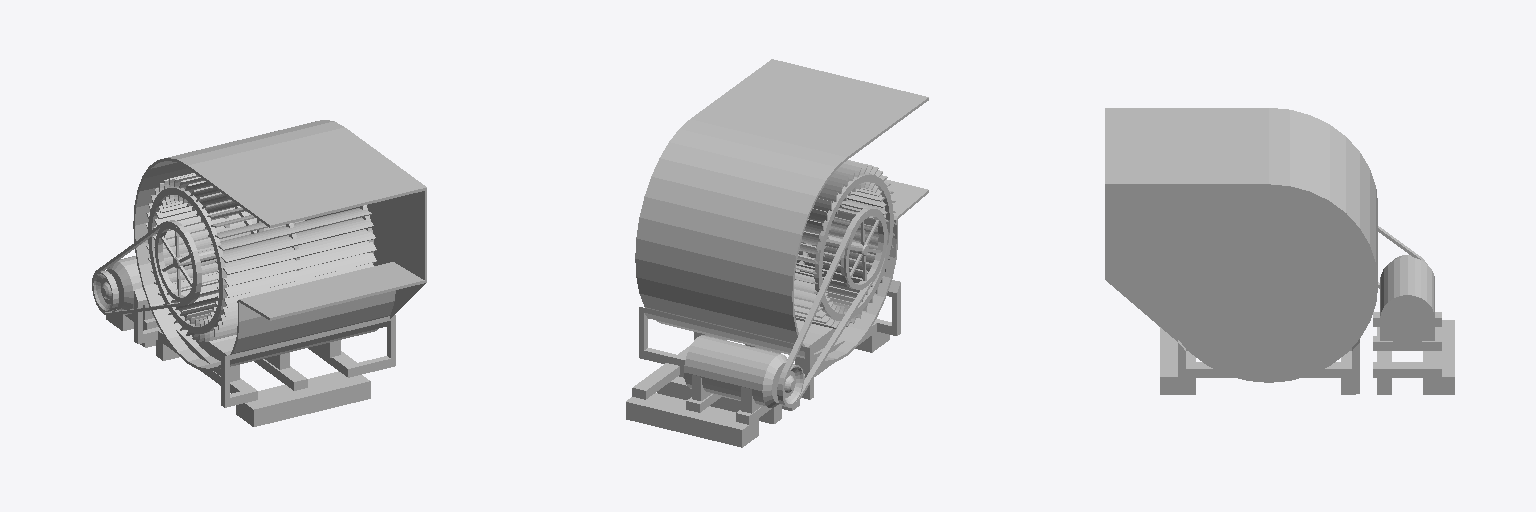
File: HVACFan.obj
3 renders of one model, left to right at view 1: azimuth 30°, elevation 25°; view 2: azimuth 150°, elevation 25°; view 3: azimuth 270°, elevation 25°, orthographic.
Visible parts, largest first — view 1: HVACFan.obj; view 2: HVACFan.obj; view 3: HVACFan.obj.
Part boxes in pixels (x1,y1,x2,y2): HVACFan.obj: (92,120,426,426); HVACFan.obj: (626,59,928,447); HVACFan.obj: (1105,108,1454,394).
Bounding box in the file's own units: 0.8795 × 1.06 × 1.49.